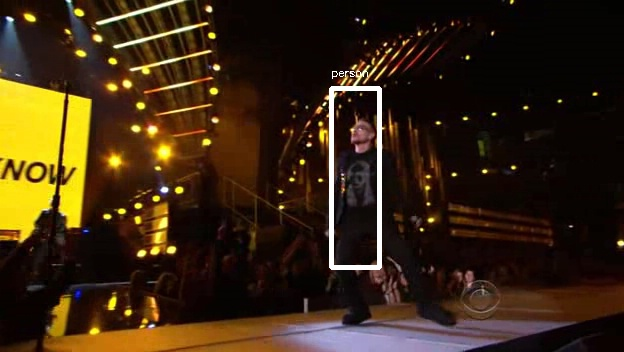person: (328, 119, 397, 236), (325, 119, 394, 236), (331, 119, 400, 236), (328, 116, 397, 233), (328, 122, 397, 239)
target_negative: (68, 191, 265, 277), (288, 165, 302, 259), (168, 35, 241, 48), (468, 294, 582, 299), (580, 190, 584, 236), (523, 321, 535, 336)
